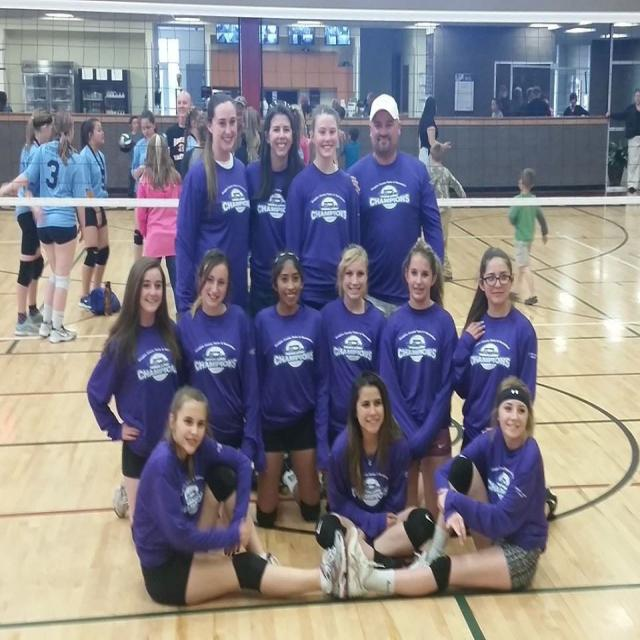body: (127, 382, 348, 608), (343, 369, 551, 600), (85, 255, 190, 530), (172, 244, 262, 524), (245, 101, 362, 316), (320, 370, 438, 572), (344, 91, 446, 321), (378, 236, 459, 524), (247, 250, 330, 530), (0, 108, 89, 344), (450, 244, 540, 455), (175, 89, 256, 322), (315, 242, 388, 494), (282, 103, 362, 313), (13, 106, 55, 337), (136, 132, 183, 318), (77, 116, 111, 311), (272, 101, 310, 261), (508, 166, 549, 305), (427, 142, 467, 283), (604, 86, 639, 196), (483, 85, 591, 119), (130, 110, 170, 199), (165, 88, 197, 187), (418, 96, 453, 166), (292, 91, 378, 119), (119, 114, 145, 199), (178, 111, 209, 177), (232, 105, 264, 168), (180, 114, 207, 181), (342, 126, 361, 172), (233, 95, 249, 132), (300, 102, 313, 140), (0, 87, 13, 110)
